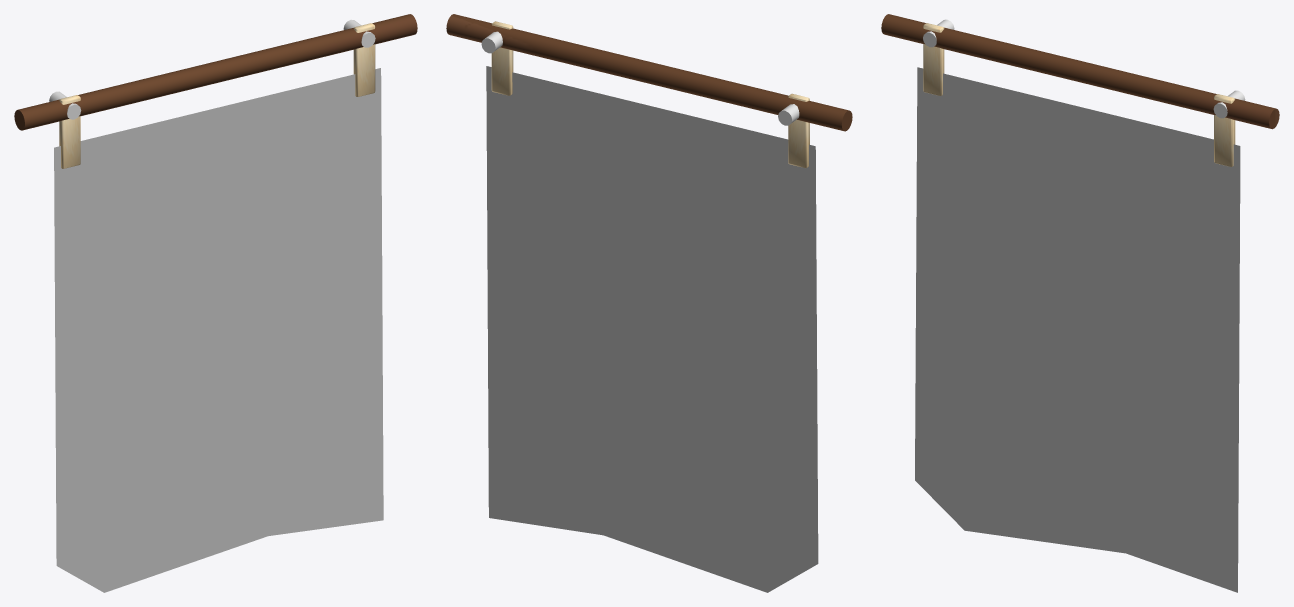
The model's file is CM_IL04_HerbalBanner.fbx.
3 renders of one model, left to right at view 1: azimuth 30°, elevation 25°; view 2: azimuth 150°, elevation 25°; view 3: azimuth 330°, elevation 25°, orthographic.
Parts seen in each view (by area): view 1: CM_IL04_HerbalBanner; view 2: CM_IL04_HerbalBanner; view 3: CM_IL04_HerbalBanner.
Part boxes in pixels (x1,y1,x2,y2): CM_IL04_HerbalBanner: [14, 14, 417, 592]; CM_IL04_HerbalBanner: [446, 14, 852, 592]; CM_IL04_HerbalBanner: [881, 14, 1279, 592].
Size of the model in its own units: 0.72 by 0.88 by 0.057.
